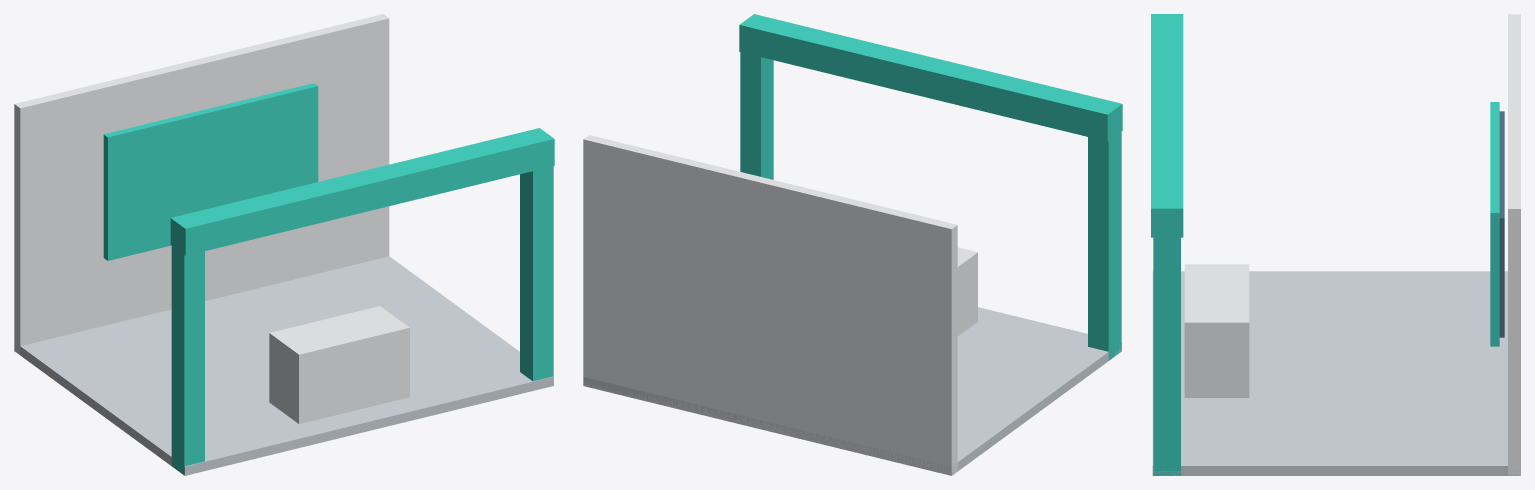
3 renders of one model, left to right at view 1: azimuth 30°, elevation 25°; view 2: azimuth 150°, elevation 25°; view 3: azimuth 270°, elevation 25°, orthographic. The views are drawn at different scales.
Visible parts, largest first — view 1: Exhibition Booth Concept; view 2: Exhibition Booth Concept; view 3: Exhibition Booth Concept.
Part boxes in pixels (x1,y1,x2,y2): Exhibition Booth Concept: [14, 14, 554, 475]; Exhibition Booth Concept: [583, 14, 1122, 475]; Exhibition Booth Concept: [1151, 14, 1520, 475].
Bounding box in the file's own units: 5 × 3.2 × 4.02.
